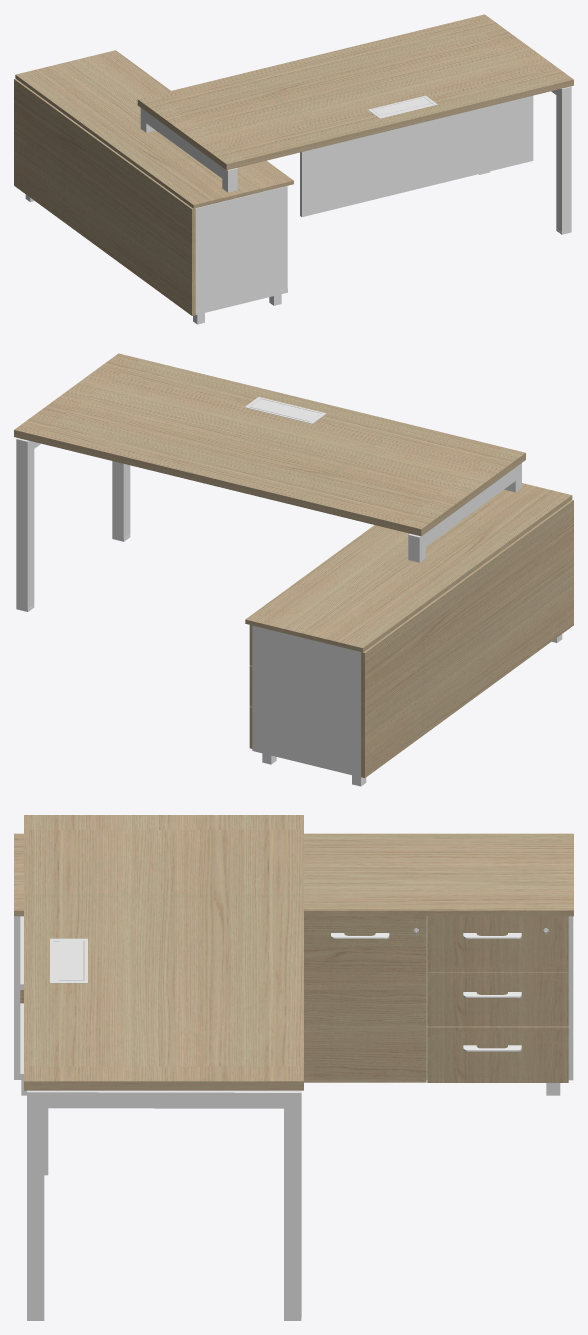
The picture shows the model from 3 angles, top to bottom: view 1: azimuth 30°, elevation 25°; view 2: azimuth 150°, elevation 25°; view 3: azimuth 270°, elevation 25°; orthographic projection. The views are drawn at different scales.
Parts seen in each view (by area): view 1: Box444, Group687, Box443, Box1931, Box1934, Line1299, Line1300, Rectangle277; view 2: Box444, Group687, Box1931, Line1299, Line1300, Rectangle277; view 3: Box444, Group687, Box1931, Box1936, Line1299, Box1934, Rectangle277.
Boxes of the visible parts, x1,y1,x2,y2 form: Box444: (137, 14, 573, 170); Group687: (14, 78, 287, 315); Box443: (300, 95, 533, 216); Box1931: (15, 50, 293, 208); Box1934: (195, 186, 287, 311); Line1299: (551, 86, 571, 232); Line1300: (140, 108, 237, 192); Rectangle277: (373, 97, 431, 115); Box444: (14, 353, 525, 536); Group687: (249, 500, 573, 777); Box1931: (245, 483, 572, 652); Line1299: (16, 438, 130, 609); Line1300: (408, 463, 521, 562); Rectangle277: (250, 400, 318, 421); Box444: (24, 815, 303, 1090); Group687: (14, 916, 573, 1082); Box1931: (14, 833, 573, 916); Box1936: (304, 916, 426, 1082); Line1299: (27, 1090, 301, 1317); Box1934: (14, 916, 20, 1073); Rectangle277: (59, 941, 83, 980).
Size of the model in its own units: 2 by 0.7597 by 1.6.
Materials: 2 (1 with a texture image).
